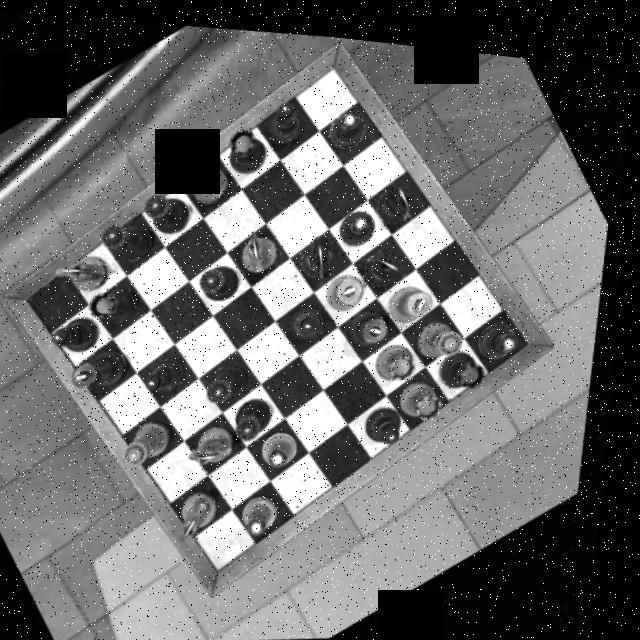chess-table-corners: (211, 544, 260, 598), (311, 48, 357, 94), (13, 280, 58, 326), (514, 324, 552, 361)
